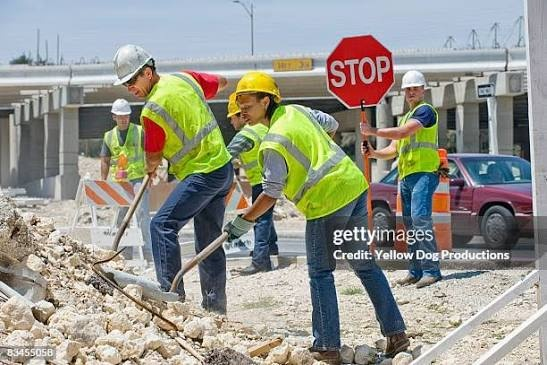hardhat: (112, 44, 155, 90), (238, 76, 284, 103), (398, 64, 426, 94), (225, 93, 242, 123), (97, 98, 132, 112)
person: (235, 72, 406, 339), (107, 41, 238, 322), (384, 53, 456, 289), (93, 94, 156, 273), (221, 88, 278, 276)
safety_vest: (271, 111, 370, 215), (136, 96, 228, 175), (392, 102, 445, 177), (100, 126, 147, 182), (237, 121, 266, 184)
